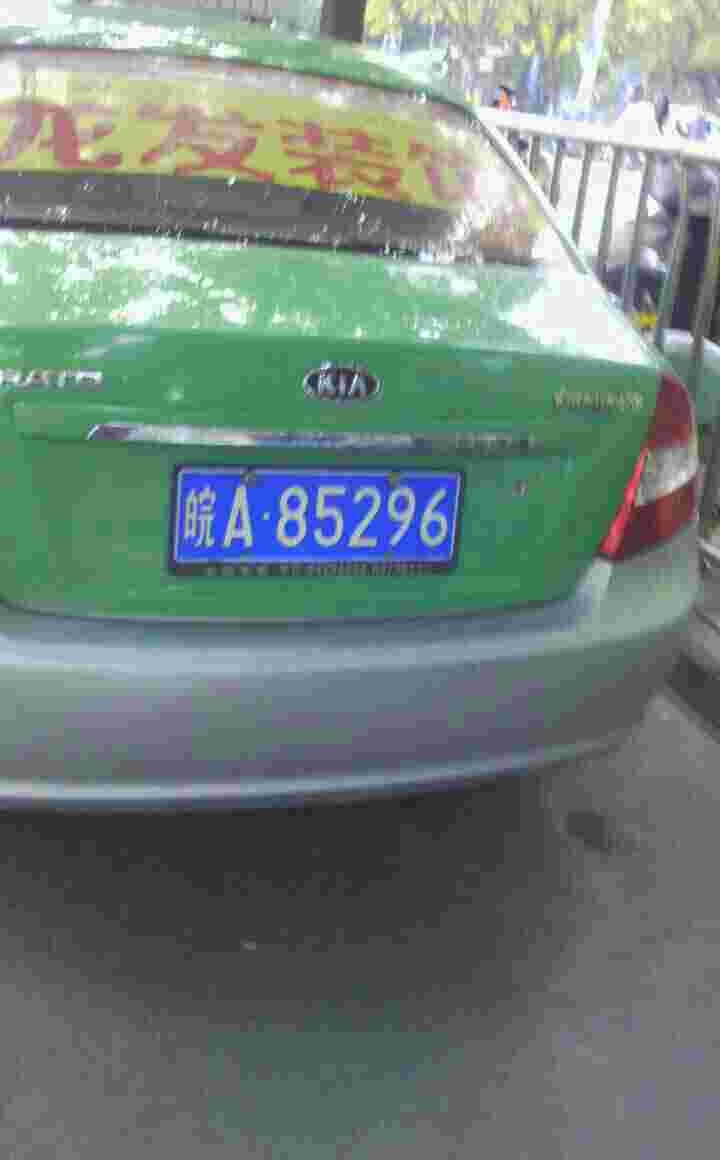license_plate: (169, 468, 458, 573)
